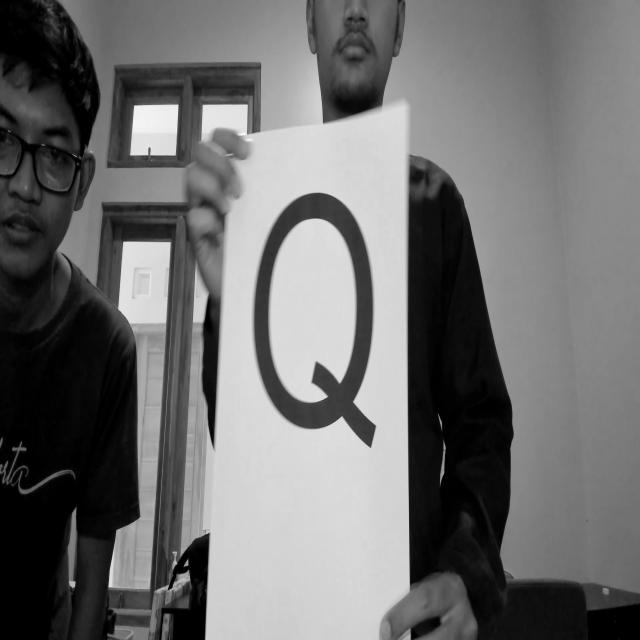q: (233, 170, 403, 484)
